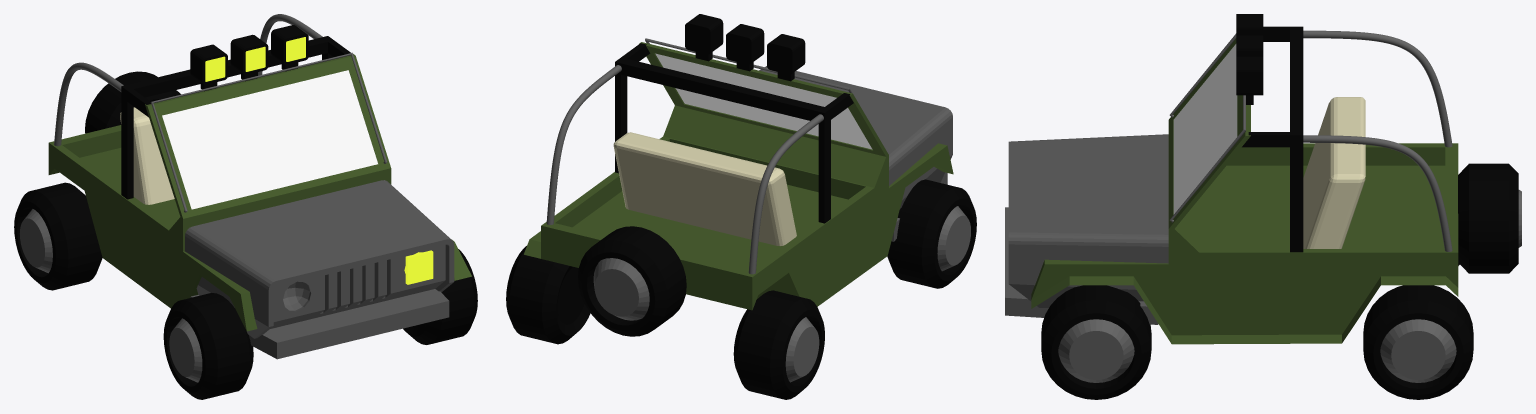
The model's file is jeep.glb.
3 renders of one model, left to right at view 1: azimuth 30°, elevation 25°; view 2: azimuth 150°, elevation 25°; view 3: azimuth 270°, elevation 25°, orthographic. The views are drawn at different scales.
Visible parts, largest first — view 1: 立方体.002, Cube, Cube.003, 円柱, 円柱.001, 立方体.006, 立方体.007, 立方体.001, 立方体.008, 円柱.002, NURBSパス, Cube.002 (+1 smaller); view 2: Cube, 円柱.001, 立方体.008, 円柱.002, 円柱, 立方体.001, 立方体.002, Cube.003, 立方体.007, NURBSパス, Cube.002; view 3: Cube, 立方体.002, 円柱.001, 円柱, 立方体.008, 円柱.002, Cube.003, 立方体.001, Cube.001, NURBSパス, 立方体.007, 立方体.006 (+1 smaller).
Part boxes in pixels (x1,y1,x2,y2): 立方体.002: [185, 180, 454, 338]; Cube: [48, 54, 454, 331]; Cube.003: [162, 70, 377, 209]; 円柱: [163, 249, 477, 399]; 円柱.001: [14, 182, 102, 290]; 立方体.006: [190, 289, 449, 359]; 立方体.007: [190, 25, 308, 91]; 立方体.001: [121, 36, 350, 199]; 立方体.008: [120, 107, 174, 204]; 円柱.002: [85, 71, 180, 133]; NURBSパス: [54, 14, 322, 146]; Cube.002: [151, 52, 387, 212]; Cube: [541, 42, 953, 310]; 円柱.001: [506, 246, 824, 399]; 立方体.008: [613, 132, 796, 245]; 円柱.002: [578, 226, 686, 336]; 円柱: [887, 179, 976, 288]; 立方体.001: [615, 43, 853, 223]; 立方体.002: [759, 66, 952, 208]; Cube.003: [655, 53, 872, 149]; 立方体.007: [685, 14, 805, 81]; NURBSパス: [546, 65, 823, 274]; Cube.002: [645, 38, 854, 96]; Cube: [1031, 38, 1458, 335]; 立方体.002: [1008, 134, 1168, 307]; 円柱.001: [1363, 263, 1473, 399]; 円柱: [1041, 285, 1151, 399]; 立方体.008: [1303, 97, 1365, 248]; 円柱.002: [1458, 163, 1521, 273]; Cube.003: [1173, 44, 1237, 214]; 立方体.001: [1242, 26, 1303, 252]; Cube.001: [1031, 276, 1458, 344]; NURBSパス: [1303, 30, 1452, 251]; 立方体.007: [1236, 14, 1263, 104]; 立方体.006: [1005, 207, 1158, 324].
Bounding box in the file's own units: 2.67 × 2.49 × 3.99.
